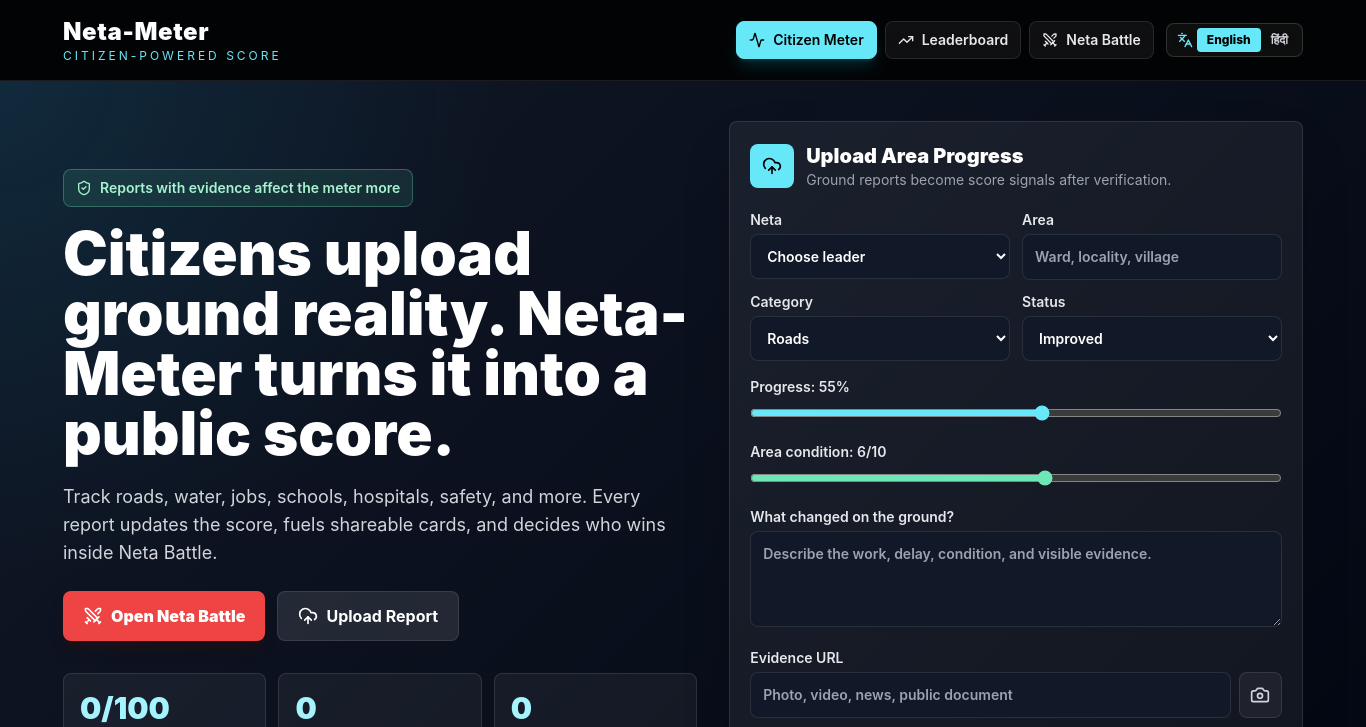
toggles between English and Hindi options seamlessly
Expected: the button "Citizen Meter" is shown, [736,21,877,59]
Expected: the heading "Upload Area Progress" is shown, [806,144,1024,168]
Switch to Hindi
Click the button "हिंदी" at (1279, 40), box [1261,28,1298,52]
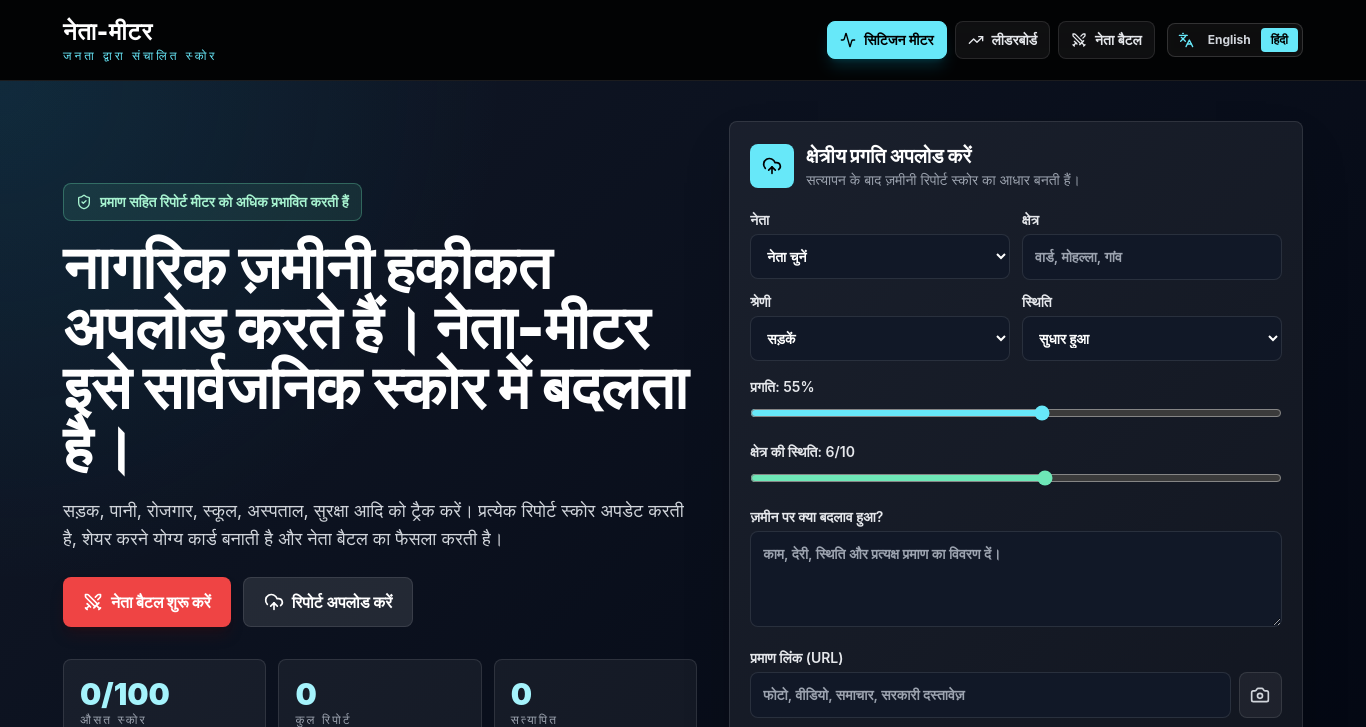
Result: the button "सिटिजन मीटर" is shown at [827,21,946,59]
Result: the heading "क्षेत्रीय प्रगति अपलोड करें" is shown at [806,144,971,168]
Result: the text "नेता-मीटर" is shown at [63,17,152,46]
Switch back to English
Click the button "English" at (1229, 40), box [1198,28,1261,52]
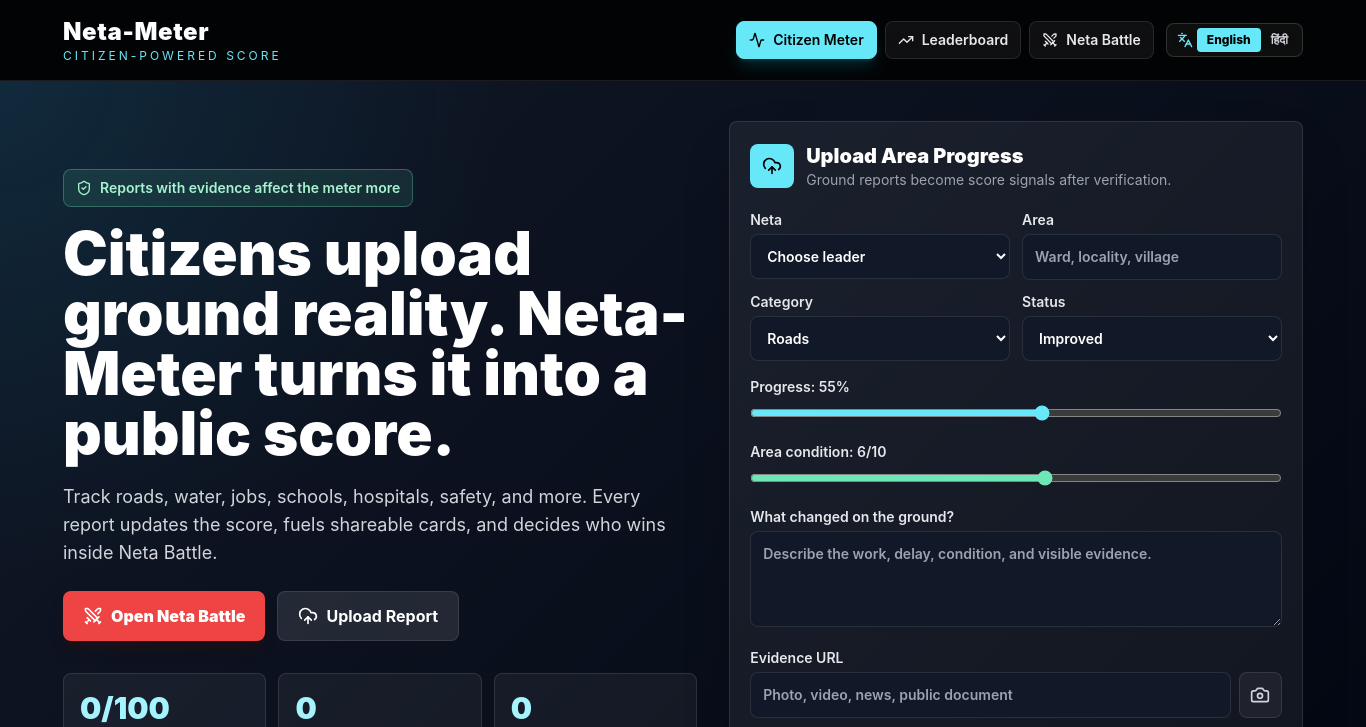
Result: the button "Citizen Meter" is shown at [736,21,877,59]
Result: the heading "Upload Area Progress" is shown at [806,144,1024,168]
Result: the text "Neta-Meter" is shown at [63,17,209,46]
